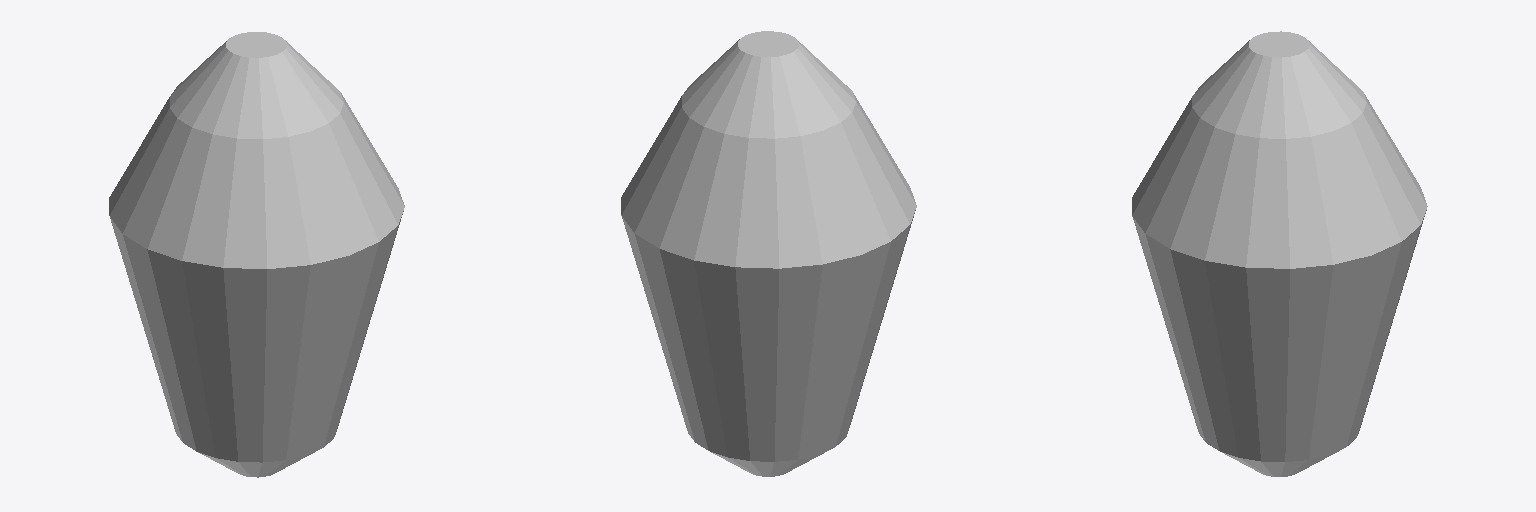
The model's file is luaOrb.obj.
3 renders of one model, left to right at view 1: azimuth 30°, elevation 25°; view 2: azimuth 150°, elevation 25°; view 3: azimuth 270°, elevation 25°, orthographic.
Visible parts, largest first — view 1: Circle.000_Circle.003; view 2: Circle.000_Circle.003; view 3: Circle.000_Circle.003.
Part boxes in pixels (left/top/right/bottom): Circle.000_Circle.003: left=109, top=32, right=404, bottom=477; Circle.000_Circle.003: left=621, top=31, right=916, bottom=476; Circle.000_Circle.003: left=1132, top=31, right=1427, bottom=476.
Bounding box in the file's own units: 2.94 × 4.64 × 2.94.